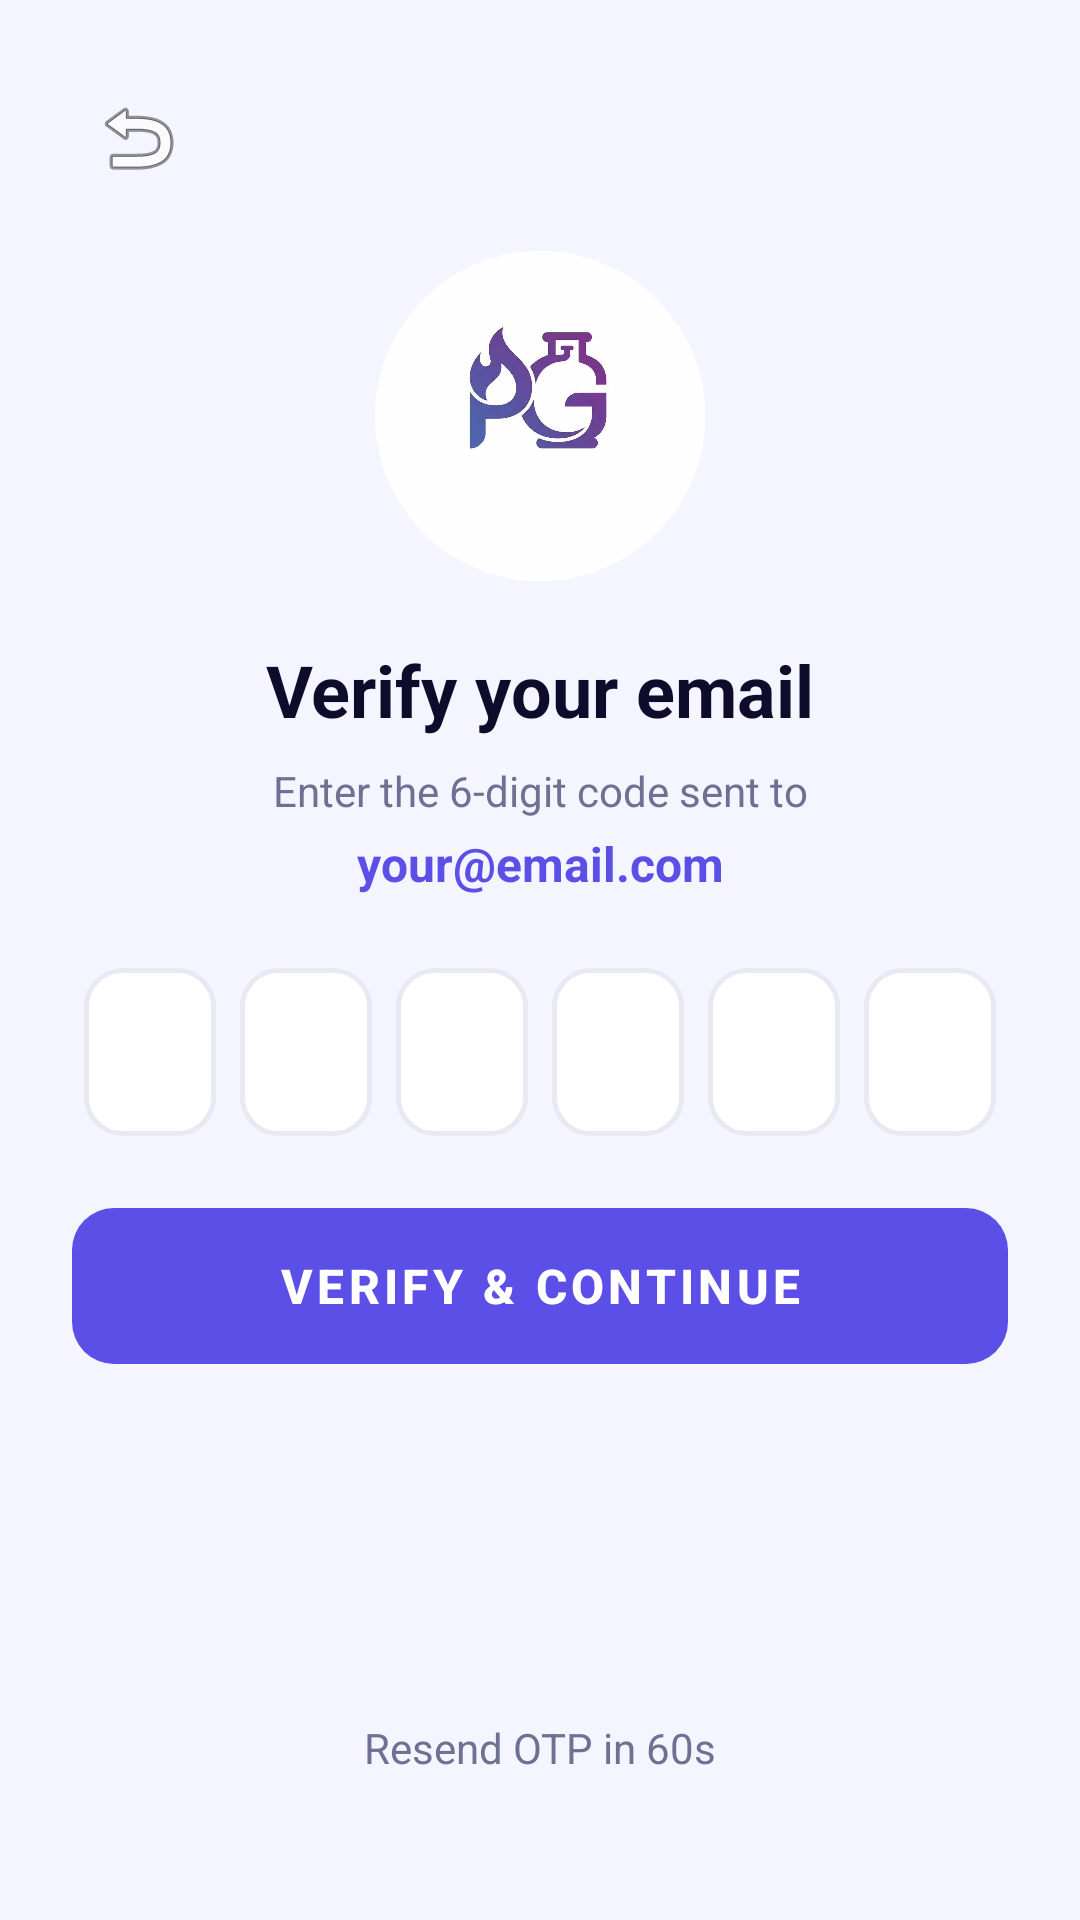

Named icons in this screenshot (1080 × 1920) and their bounding boxes, (x1, y1, x2, y2):
Back: (105, 107, 174, 170)
